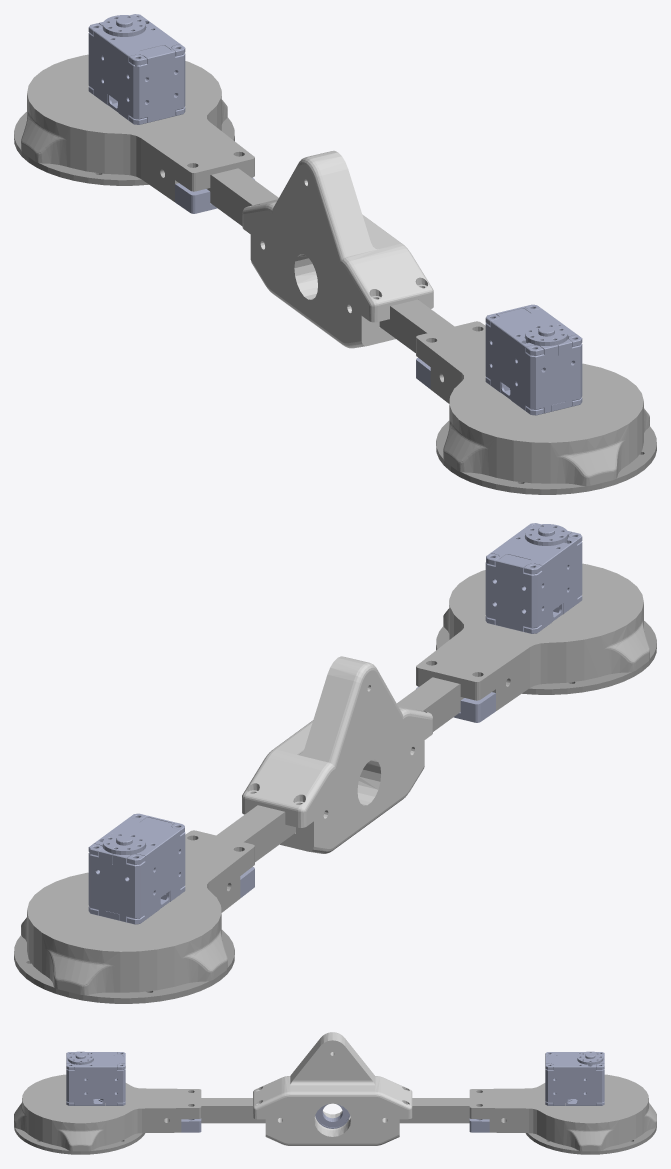
File: right-drivetrain.glb
The picture shows the model from 3 angles, top to bottom: view 1: azimuth 30°, elevation 25°; view 2: azimuth 150°, elevation 25°; view 3: azimuth 270°, elevation 25°; orthographic projection. The views are drawn at different scales.
Parts seen in each view (by area): view 1: Right Drivetrain; view 2: Right Drivetrain; view 3: Right Drivetrain.
Part boxes in pixels (x1,y1,x2,y2): Right Drivetrain: (14,14,656,494); Right Drivetrain: (14,523,656,1003); Right Drivetrain: (14,1032,656,1154).
Bounding box in the file's own units: 0.105 × 0.0847 × 0.506.
